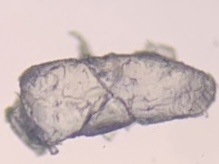microplastic: (3, 31, 218, 159)
